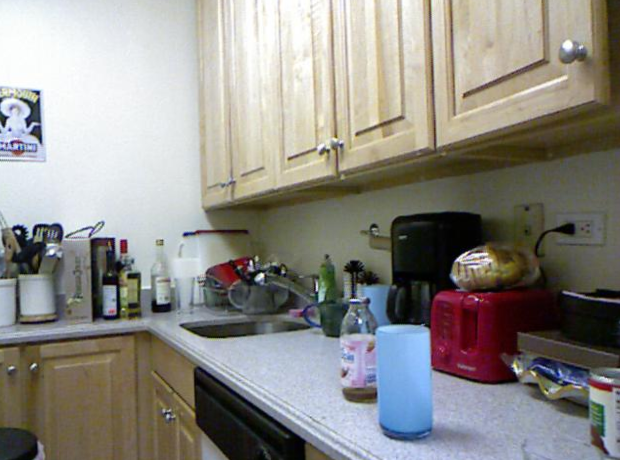cabinetDoor: (454, 0, 608, 110), (334, 0, 432, 153), (24, 345, 133, 460), (231, 0, 278, 192), (284, 0, 331, 173), (203, 0, 229, 201), (0, 348, 23, 427), (154, 385, 169, 458), (170, 411, 190, 460)
table: (221, 296, 620, 460)
